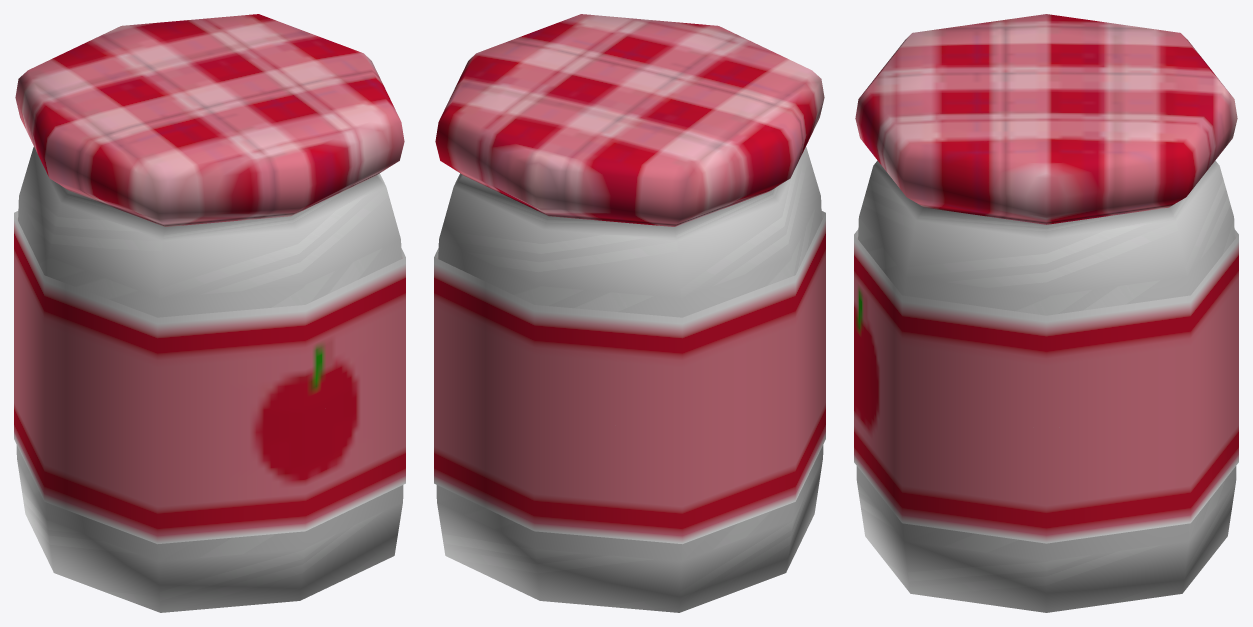
Rendered from Jam_Apple.fbx.
The picture shows the model from 3 angles, left to right: view 1: azimuth 30°, elevation 25°; view 2: azimuth 150°, elevation 25°; view 3: azimuth 270°, elevation 25°; orthographic projection.
Visible parts, largest first — view 1: MilkJar; view 2: MilkJar; view 3: MilkJar.
Boxes of the visible parts, x1,y1,x2,y2 form: MilkJar: (14, 14, 405, 612); MilkJar: (434, 14, 825, 612); MilkJar: (854, 14, 1238, 612).
Size of the model in its own units: 0.5413 by 0.7263 by 0.5413.
